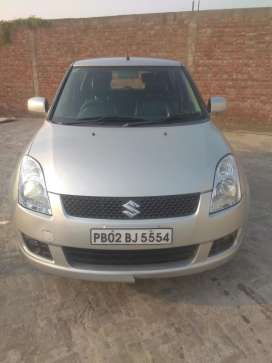license_plate: (90, 229, 172, 243)
